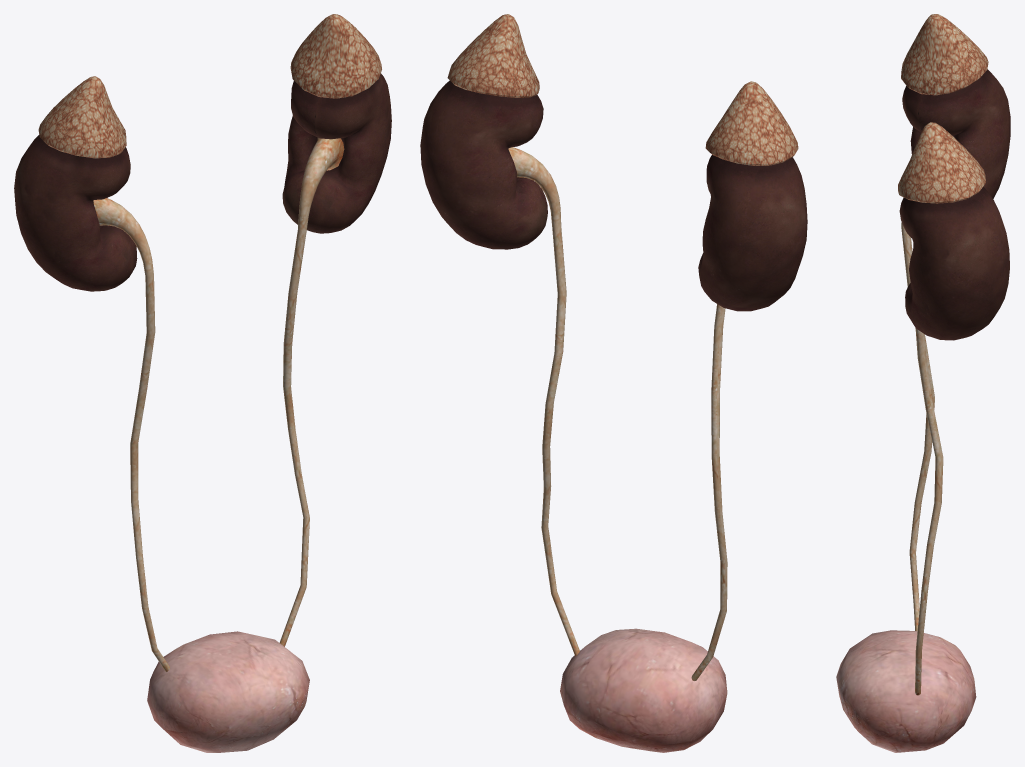
The model's file is Male_Urinary_System.fbx.
3 renders of one model, left to right at view 1: azimuth 30°, elevation 25°; view 2: azimuth 150°, elevation 25°; view 3: azimuth 270°, elevation 25°, orthographic. The views are drawn at different scales.
Visible parts, largest first — view 1: Urinary_Bladder, Right_Kidney, Left_Kidney, Left_Suprarenal_Adrenal_Glands, Left_Ureter, Right_Ureter, Right_Suprarenal_Adrenal_Glands; view 2: Urinary_Bladder, Left_Kidney, Right_Kidney, Left_Ureter, Right_Suprarenal_Adrenal_Glands, Left_Suprarenal_Adrenal_Glands, Right_Ureter; view 3: Urinary_Bladder, Left_Kidney, Right_Kidney, Right_Suprarenal_Adrenal_Glands, Left_Suprarenal_Adrenal_Glands, Left_Ureter, Right_Ureter.
Boxes of the visible parts, x1=… form: Urinary_Bladder: x1=147, y1=631, x2=309, y2=752; Right_Kidney: x1=14, y1=135, x2=137, y2=291; Left_Kidney: x1=282, y1=73, x2=391, y2=233; Left_Suprarenal_Adrenal_Glands: x1=290, y1=14, x2=381, y2=98; Left_Ureter: x1=279, y1=138, x2=344, y2=646; Right_Ureter: x1=93, y1=198, x2=169, y2=672; Right_Suprarenal_Adrenal_Glands: x1=38, y1=76, x2=126, y2=158; Urinary_Bladder: x1=560, y1=628, x2=727, y2=752; Left_Kidney: x1=420, y1=80, x2=547, y2=249; Right_Kidney: x1=698, y1=155, x2=807, y2=311; Left_Ureter: x1=508, y1=147, x2=579, y2=656; Right_Suprarenal_Adrenal_Glands: x1=705, y1=81, x2=798, y2=165; Left_Suprarenal_Adrenal_Glands: x1=447, y1=14, x2=539, y2=97; Right_Ureter: x1=691, y1=304, x2=727, y2=680; Urinary_Bladder: x1=836, y1=630, x2=976, y2=752; Left_Kidney: x1=899, y1=186, x2=1009, y2=340; Right_Kidney: x1=902, y1=69, x2=1010, y2=198; Right_Suprarenal_Adrenal_Glands: x1=901, y1=14, x2=988, y2=95; Left_Suprarenal_Adrenal_Glands: x1=898, y1=122, x2=985, y2=203; Left_Ureter: x1=915, y1=328, x2=943, y2=695; Right_Ureter: x1=901, y1=222, x2=934, y2=630.
Bounding box in the file's own units: 17.03 × 30.79 × 7.18.
2 materials, 2 textured.
